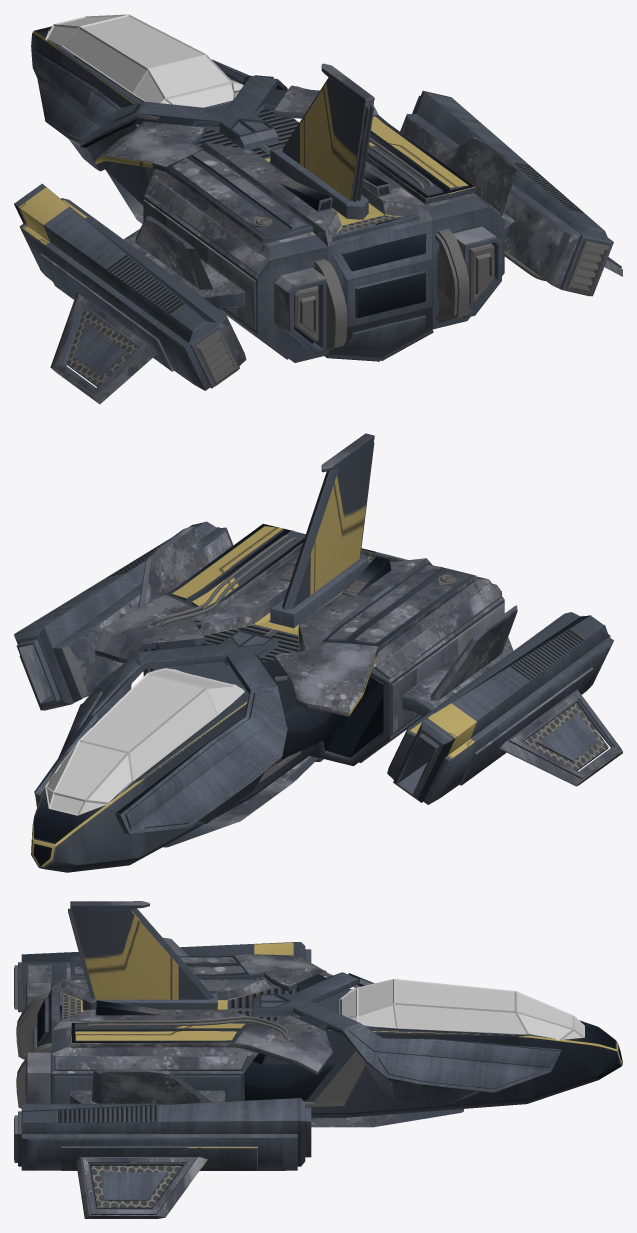
The model's file is shipV3.obj.
3 views of the same model, one above another, from view 1: azimuth 30°, elevation 25°; view 2: azimuth 150°, elevation 25°; view 3: azimuth 270°, elevation 25° (orthographic). The views are drawn at different scales.
Visible parts, largest first — view 1: ship, cockpitglas, cockpit.001; view 2: ship, cockpitglas, cockpit.001; view 3: ship, cockpitglas, cockpit.001.
Part boxes in pixels (box(x1,y1,x2,y2)): ship: box(14, 26, 622, 404); cockpitglas: box(46, 16, 242, 107); cockpit.001: box(45, 14, 243, 107); ship: box(14, 433, 622, 872); cockpitglas: box(47, 670, 241, 814); cockpit.001: box(45, 668, 244, 815); ship: box(14, 901, 622, 1218); cockpitglas: box(342, 980, 583, 1040); cockpit.001: box(339, 979, 584, 1039).
Size of the model in its own units: 10.16 by 4.73 by 12.09.
Materials: 8 (1 with a texture image).
